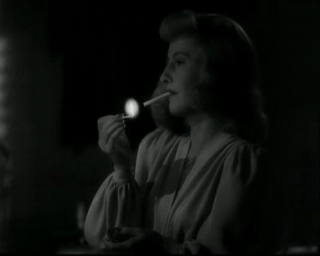face: (160, 39, 206, 114)
mcu: (1, 1, 320, 256)
person: (83, 4, 259, 256)
